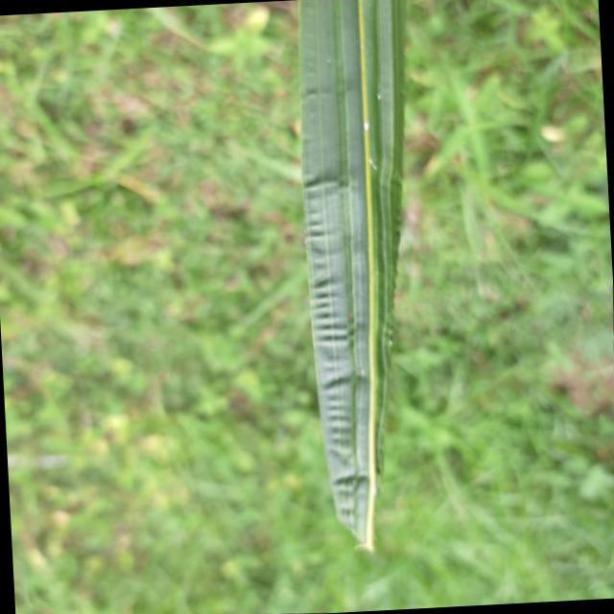Boron: (297, 0, 409, 556)
